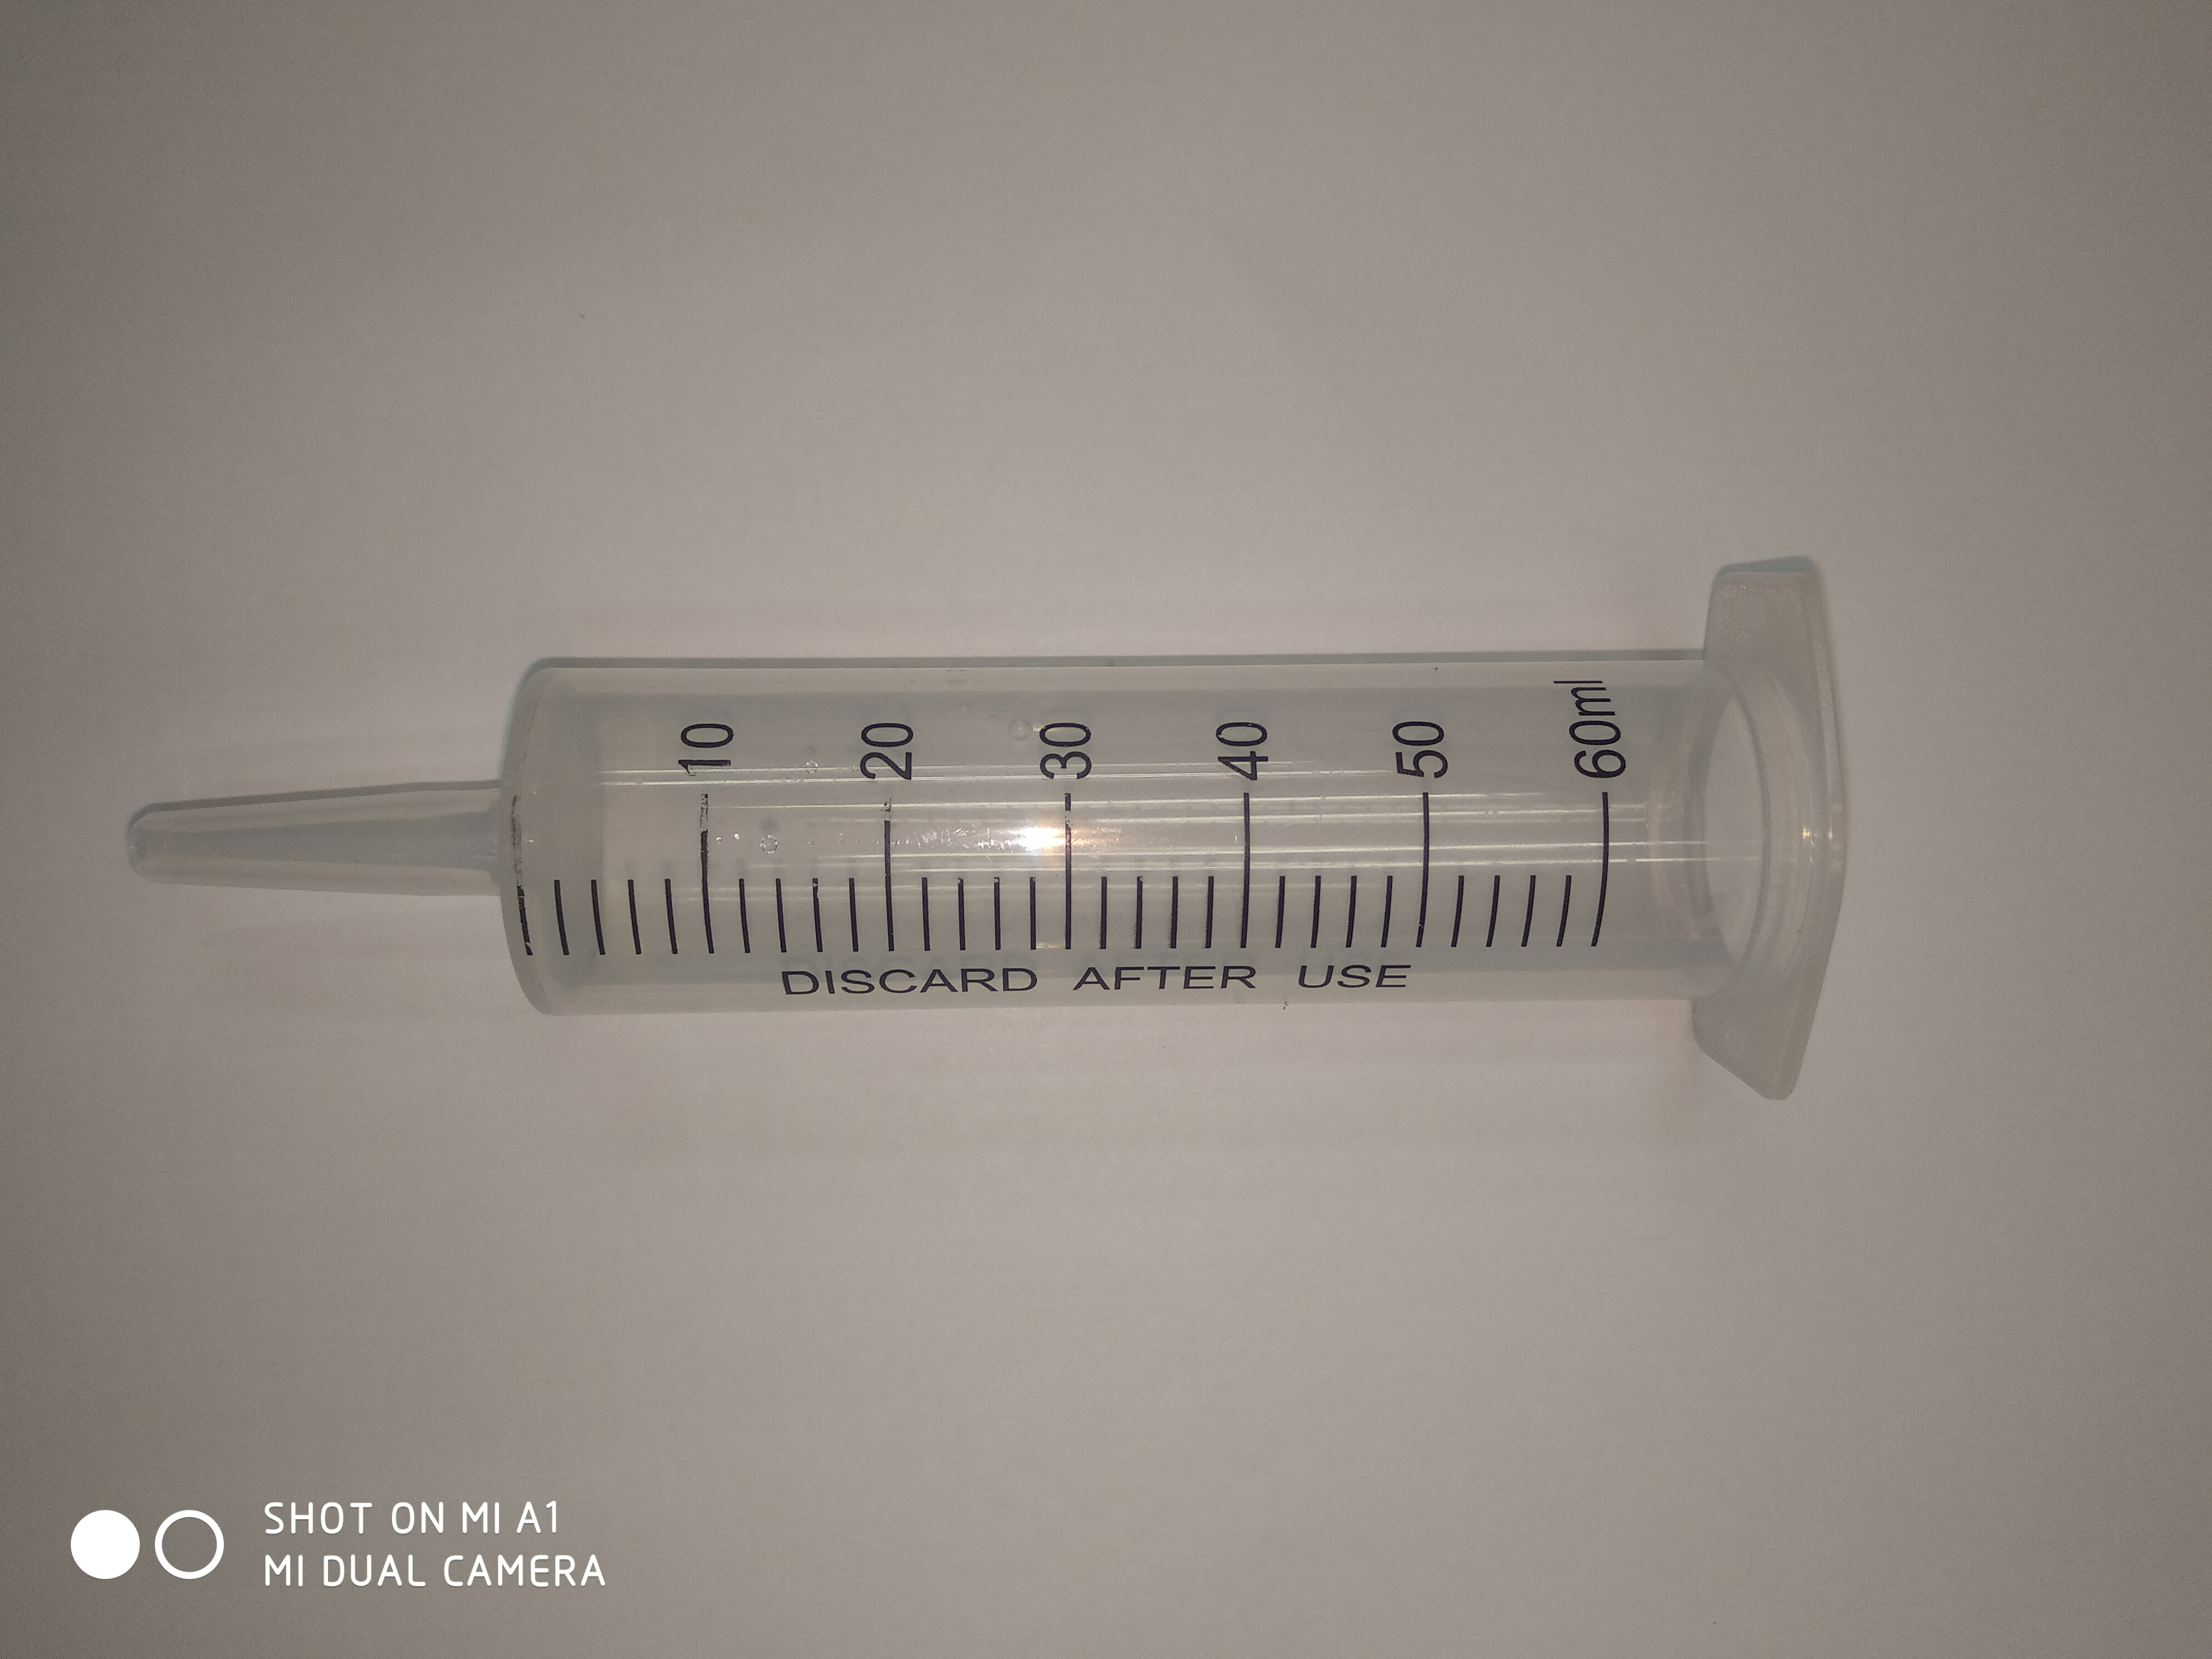syringe: (124, 554, 1864, 1110)
